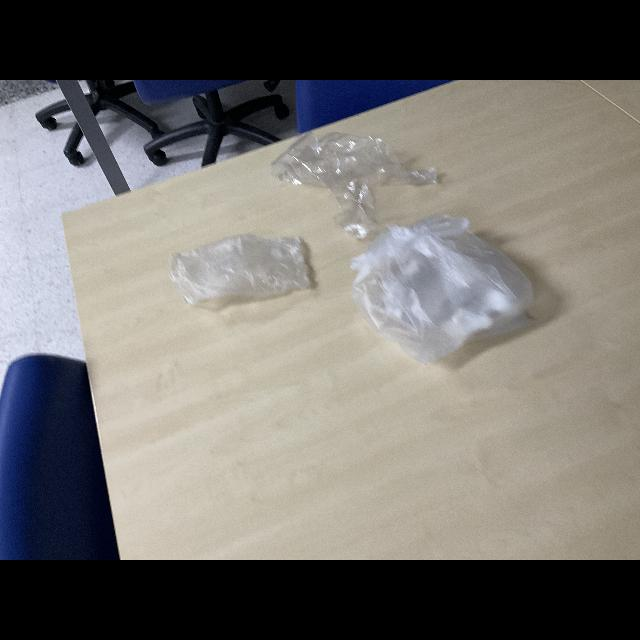plastic_bag: (350, 214, 542, 368), (270, 130, 444, 238), (168, 233, 322, 309)
